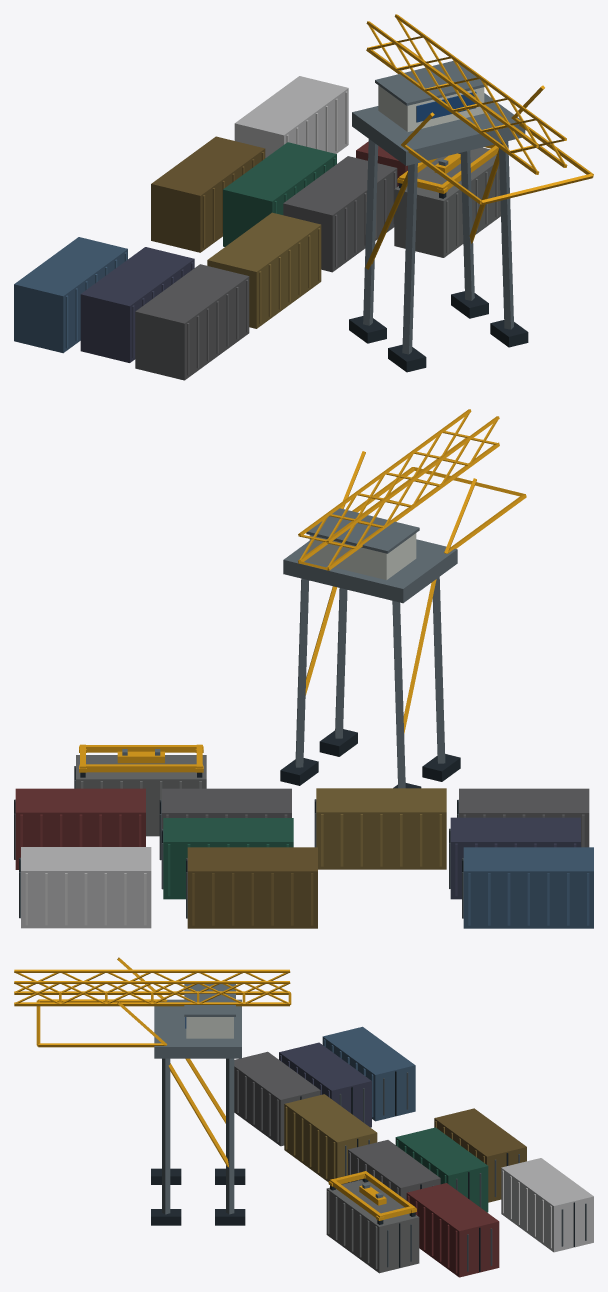
Rendered from SeaportSystem-02-ShipToShoreGantryCrane-01-20Footer-2-05.glb.
3 renders of one model, top to bottom at view 1: azimuth 30°, elevation 25°; view 2: azimuth 150°, elevation 25°; view 3: azimuth 270°, elevation 25°, orthographic. The views are drawn at different scales.
Parts seen in each view (by area): view 1: SeaportSystem-02-ShipToShoreGantryCrane-01-20Footer-2-05; view 2: SeaportSystem-02-ShipToShoreGantryCrane-01-20Footer-2-05; view 3: SeaportSystem-02-ShipToShoreGantryCrane-01-20Footer-2-05.
Part boxes in pixels (bbox=[...]): SeaportSystem-02-ShipToShoreGantryCrane-01-20Footer-2-05: bbox=[14, 14, 593, 380]; SeaportSystem-02-ShipToShoreGantryCrane-01-20Footer-2-05: bbox=[14, 409, 593, 928]; SeaportSystem-02-ShipToShoreGantryCrane-01-20Footer-2-05: bbox=[14, 957, 593, 1277].
Bounding box in the file's own units: 60.61 × 31.18 × 72.62.
